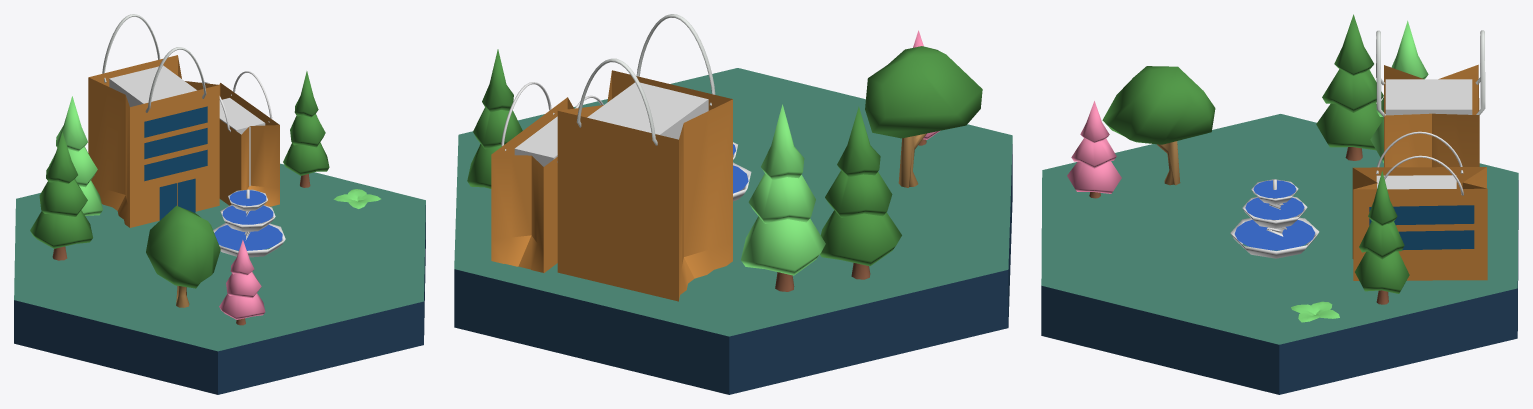
The model's file is Macro - Shop lvl 1.fbx.
The picture shows the model from 3 angles, left to right: view 1: azimuth 30°, elevation 25°; view 2: azimuth 150°, elevation 25°; view 3: azimuth 270°, elevation 25°; orthographic projection. The views are drawn at different scales.
Parts seen in each view (by area): view 1: Cylinder.179, Circle.006, Circle.005, tree1 v:88 f:56, Tree_Spruce_tiny_01.002, Cube.018, Tree_Spruce_tiny_01.007, Tree_Spruce_tiny_01.001, Tree_Spruce_tiny_01.005, Cube.138, Plane.007, Plane.003 (+5 smaller); view 2: Cylinder.179, Circle.006, tree1 v:88 f:56, Circle.005, Tree_Spruce_tiny_01.005, Tree_Spruce_tiny_01.002, Cube.138, Tree_Spruce_tiny_01.007, Cube.139, Cube.018; view 3: Cylinder.179, Circle.005, tree1 v:88 f:56, Circle.006, Tree_Spruce_tiny_01.002, Cube.018, Tree_Spruce_tiny_01.007, Cube.138, Tree_Spruce_tiny_01.001, Plane.004, Plane.006, Tree_Spruce_tiny_01.005 (+2 smaller).
Part boxes in pixels (bbox=[...]): Cylinder.179: bbox=[14, 163, 425, 394]; Circle.006: bbox=[88, 14, 219, 227]; Circle.005: bbox=[201, 71, 279, 206]; tree1 v:88 f:56: bbox=[146, 205, 220, 307]; Tree_Spruce_tiny_01.002: bbox=[30, 132, 92, 260]; Cube.018: bbox=[213, 189, 285, 257]; Tree_Spruce_tiny_01.007: bbox=[283, 71, 329, 187]; Tree_Spruce_tiny_01.001: bbox=[219, 240, 265, 325]; Tree_Spruce_tiny_01.005: bbox=[40, 96, 102, 215]; Cube.138: bbox=[109, 65, 196, 106]; Plane.007: bbox=[144, 106, 207, 137]; Plane.003: bbox=[144, 128, 207, 159]; Cylinder.179: bbox=[454, 68, 1012, 394]; Circle.006: bbox=[557, 14, 732, 301]; tree1 v:88 f:56: bbox=[865, 46, 982, 187]; Circle.005: bbox=[491, 82, 603, 272]; Tree_Spruce_tiny_01.005: bbox=[741, 104, 825, 291]; Tree_Spruce_tiny_01.002: bbox=[820, 106, 901, 279]; Cube.138: bbox=[587, 82, 708, 139]; Tree_Spruce_tiny_01.007: bbox=[467, 49, 522, 188]; Cube.139: bbox=[514, 116, 557, 166]; Cube.018: bbox=[733, 142, 751, 201]; Cylinder.179: bbox=[1041, 114, 1518, 394]; Circle.005: bbox=[1352, 131, 1487, 280]; tree1 v:88 f:56: bbox=[1102, 66, 1215, 185]; Circle.006: bbox=[1376, 30, 1485, 167]; Tree_Spruce_tiny_01.002: bbox=[1316, 14, 1383, 160]; Cube.018: bbox=[1230, 179, 1319, 258]; Tree_Spruce_tiny_01.007: bbox=[1355, 171, 1409, 304]; Cube.138: bbox=[1385, 79, 1472, 115]; Tree_Spruce_tiny_01.001: bbox=[1067, 101, 1121, 198]; Plane.004: bbox=[1369, 205, 1474, 225]; Plane.006: bbox=[1399, 230, 1474, 250]; Tree_Spruce_tiny_01.005: bbox=[1370, 20, 1428, 162].
Size of the model in its own units: 197 by 98.68 by 172.
